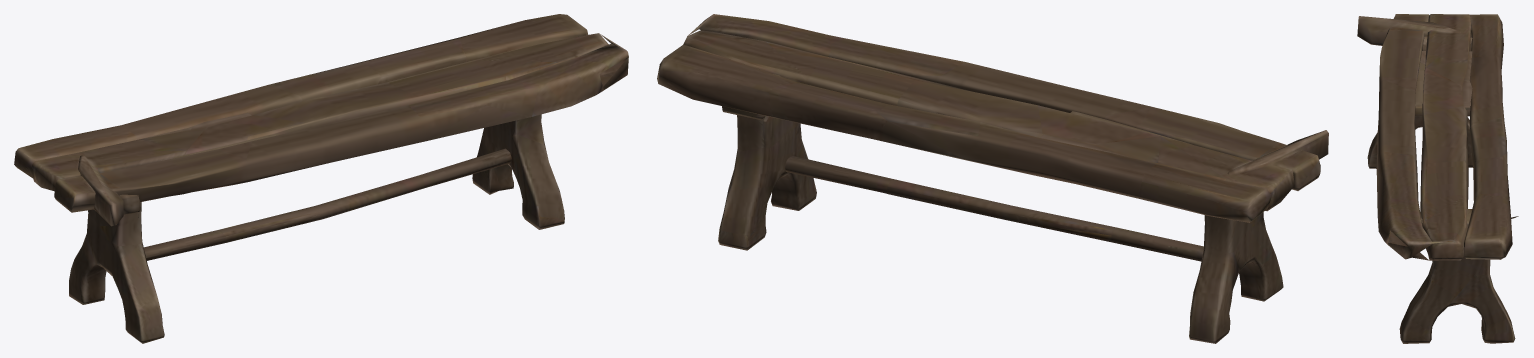
File: sd_banco.glb
The picture shows the model from 3 angles, left to right: view 1: azimuth 30°, elevation 25°; view 2: azimuth 150°, elevation 25°; view 3: azimuth 270°, elevation 25°; orthographic projection. The views are drawn at different scales.
Visible parts, largest first — view 1: Mesh_0.002; view 2: Mesh_0.002; view 3: Mesh_0.002.
Boxes of the visible parts, x1=… form: Mesh_0.002: x1=14, y1=14, x2=628, y2=343; Mesh_0.002: x1=657, y1=14, x2=1328, y2=343; Mesh_0.002: x1=1357, y1=14, x2=1518, y2=343.
Bounding box in the file's own units: 0.4095 × 0.1089 × 0.1212.
Materials: 1 (1 with a texture image).
